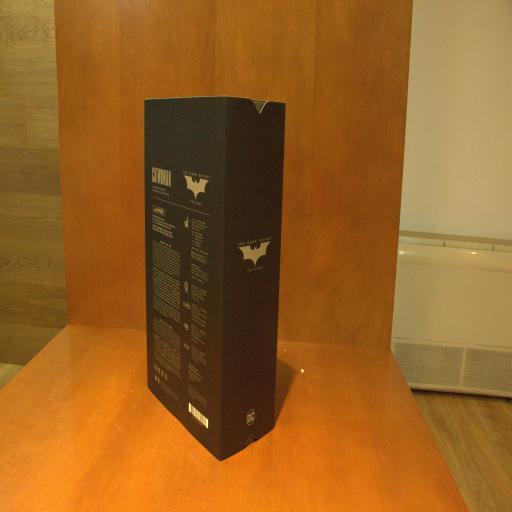catwoman: (144, 97, 284, 463)
